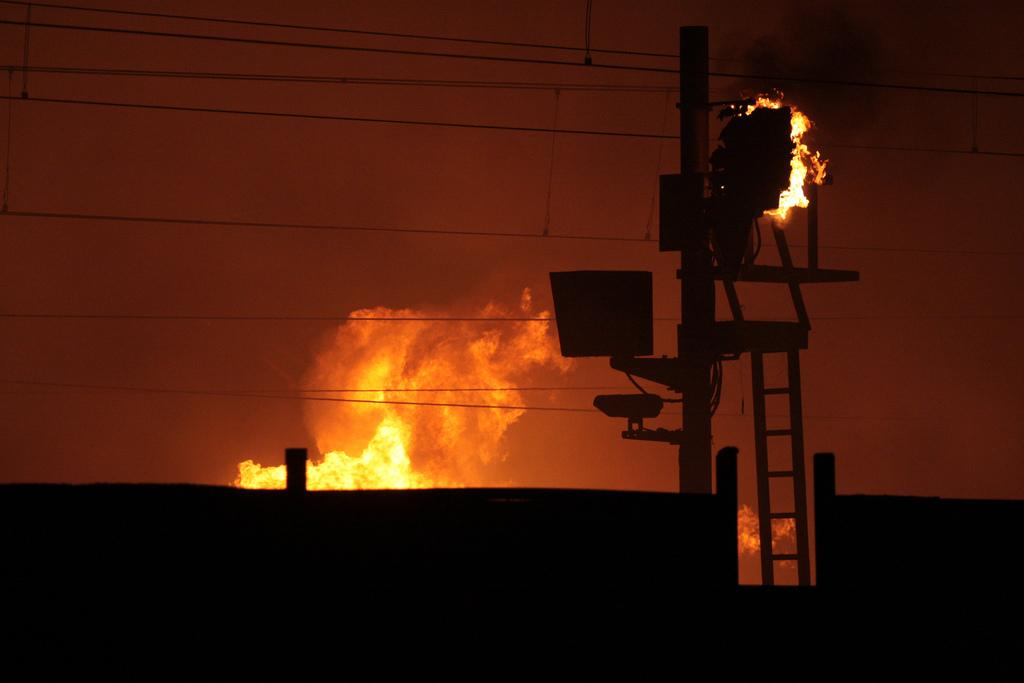fire: (340, 302, 502, 428), (313, 448, 430, 488), (790, 143, 817, 202), (233, 453, 290, 480)
